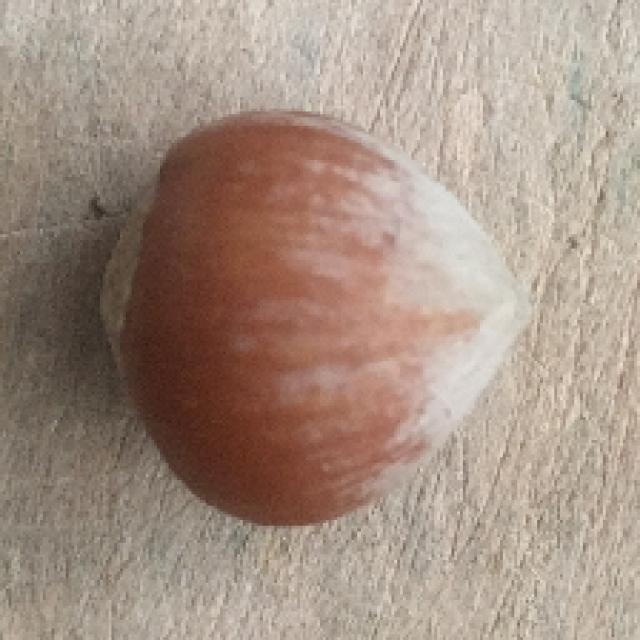qualityHazelnut: (104, 107, 533, 523)
